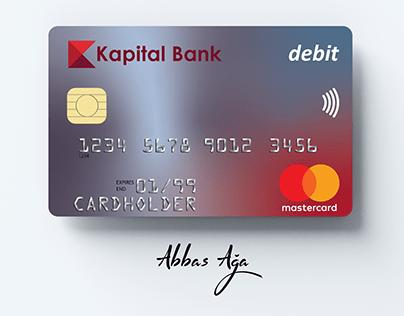Kapital Bank: (65, 38, 97, 69)
